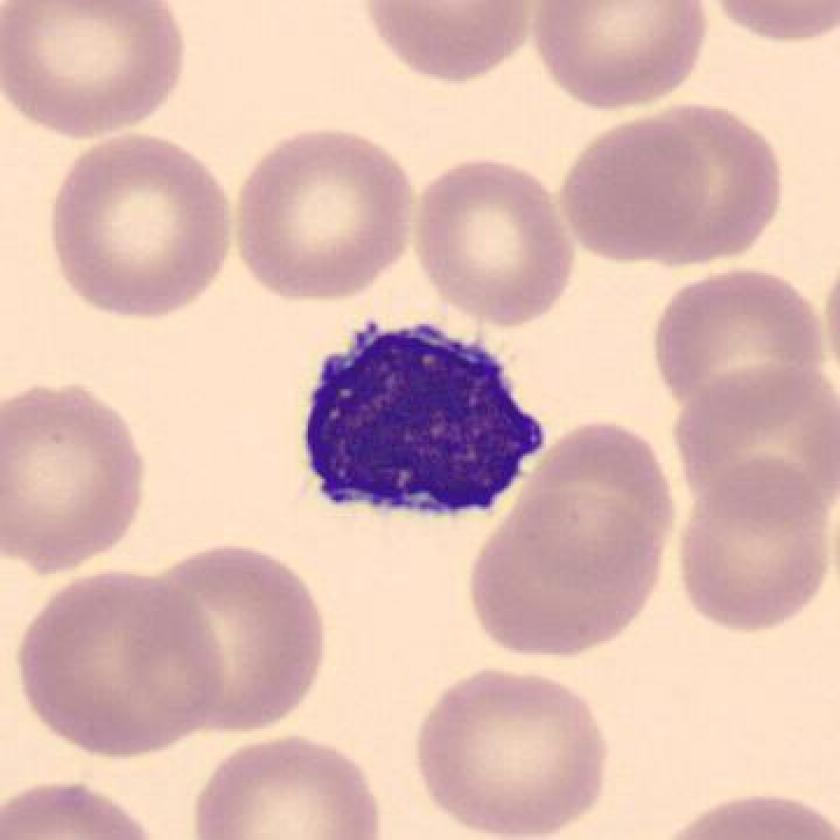lymphocyte: (281, 307, 566, 540)
